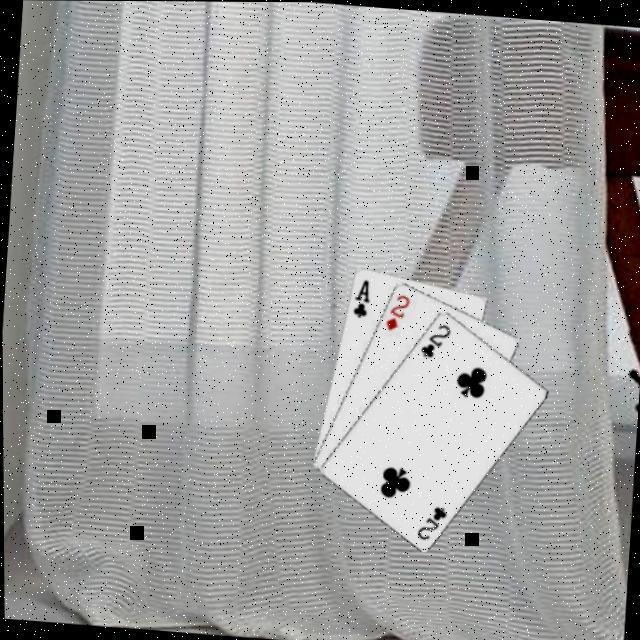2C: (414, 317, 451, 359), (410, 498, 447, 540)
2D: (379, 287, 410, 331)
AC: (347, 274, 371, 317)
